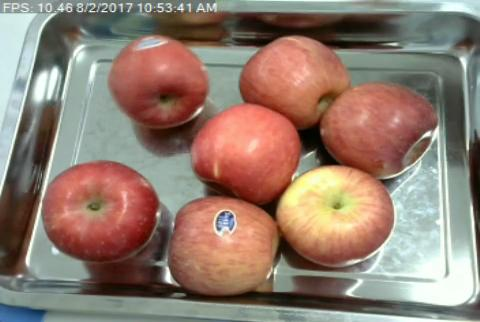apple: (279, 167, 394, 272), (43, 161, 159, 263), (323, 83, 437, 180), (172, 193, 278, 296), (193, 102, 294, 201), (238, 34, 349, 122), (108, 34, 209, 128)
